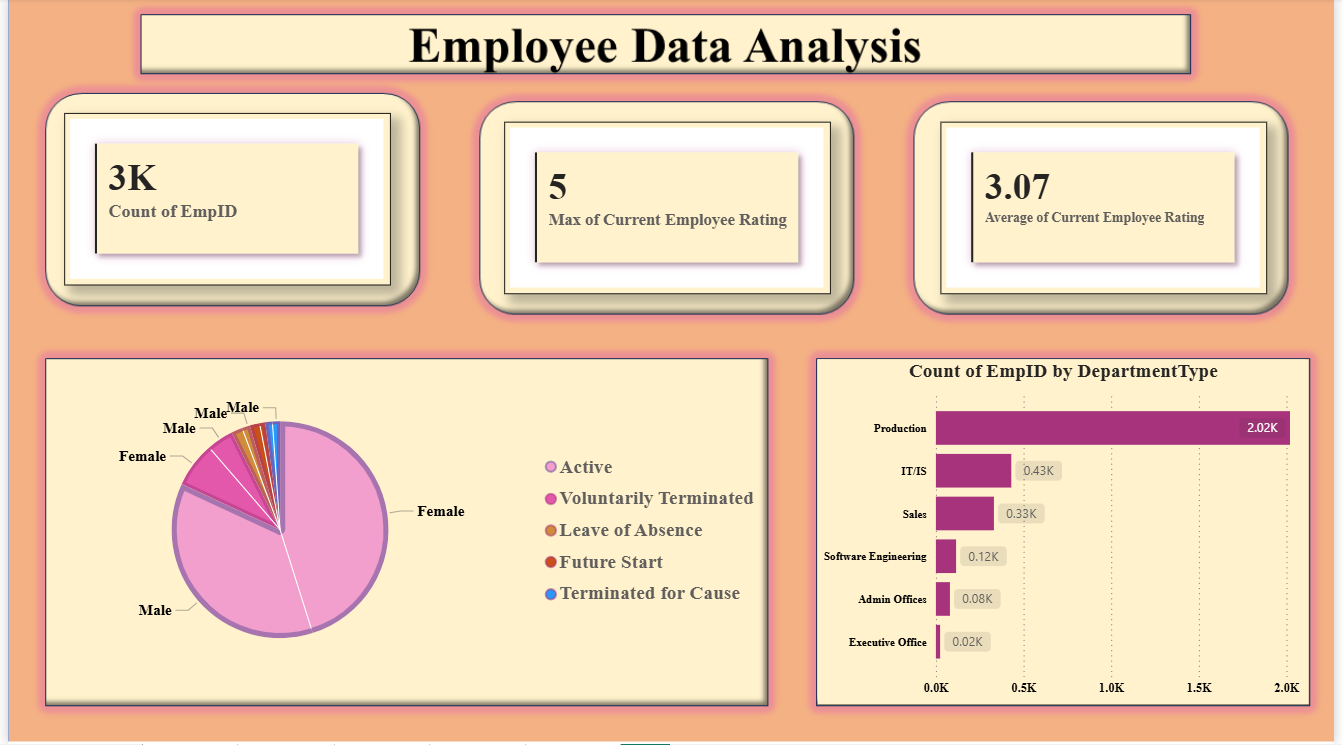

This screenshot's page, from the dashboard's own definition file:
{"tool":"powerbi","page":{"name":"Page 2","canvas":[1280,720],"ordinal":1},"visuals":[{"type":"pieChart","fields":{"Y":["CountNonNull(employee_data.EmployeeClassificationType)"],"Category":["employee_data.EmployeeStatus"],"Series":["employee_data.GenderCode"]},"box":[0,371.6,737.1,283.5],"z":0},{"type":"clusteredBarChart","fields":{"Category":["employee_data.DepartmentType"],"Y":["CountNonNull(employee_data.EmpID)"]},"box":[781.2,348.8,473.8,332.5],"z":1000},{"type":"cardVisual","fields":{"Data":["CountNonNull(employee_data.EmpID)"]},"box":[54.3,111,314.9,166.5],"z":2000},{"type":"cardVisual","fields":{"Data":["Max(employee_data.Current Employee Rating)"]},"box":[479,119.4,314.9,166.5],"z":3000},{"type":"cardVisual","fields":{"Data":["Avg(employee_data.Current Employee Rating)"]},"box":[900,119.4,314.9,166.5],"z":4000}]}

Visuals, with their boxes in screenshot pixels (x1, y1, x2, y2), scaled from the page's 1280x720 canvas onto the 1342x745 screenshot:
pieChart - CountNonNull(employee_data.EmployeeClassificationType) x employee_data.EmployeeStatus: 0:385:773:678
clusteredBarChart - employee_data.DepartmentType x CountNonNull(employee_data.EmpID): 819:361:1316:705
cardVisual - CountNonNull(employee_data.EmpID): 57:115:387:287
cardVisual - Max(employee_data.Current Employee Rating): 502:124:832:296
cardVisual - Avg(employee_data.Current Employee Rating): 944:124:1274:296
